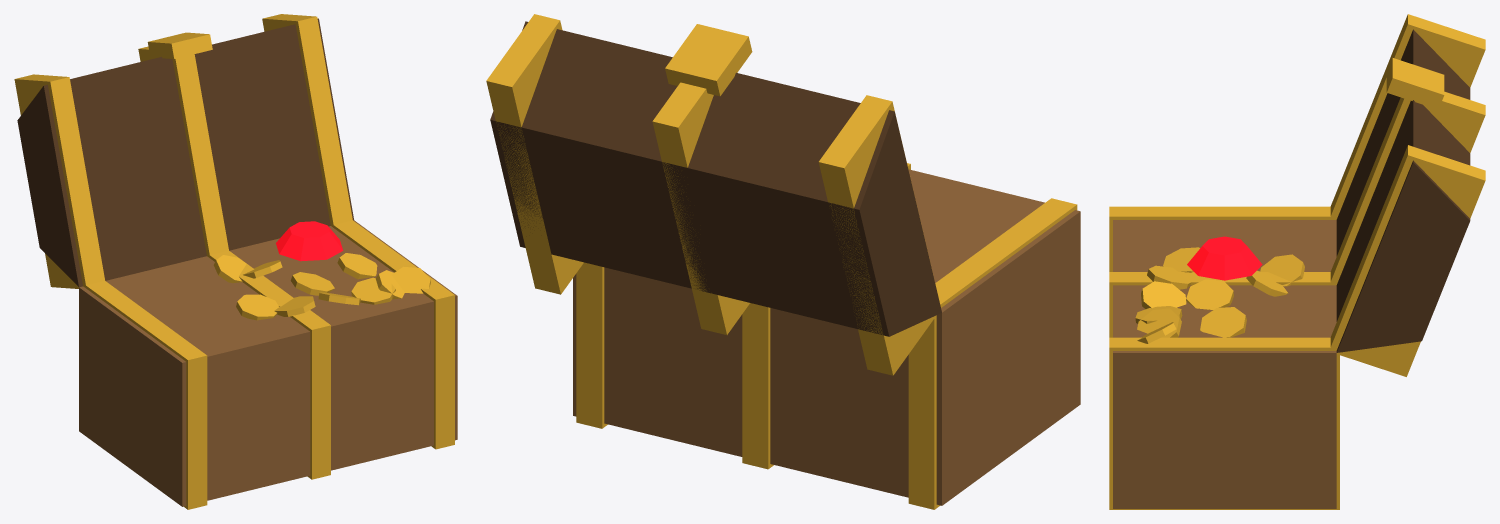
File: chest_open.glb
3 views of the same model, side by side, from view 1: azimuth 30°, elevation 25°; view 2: azimuth 150°, elevation 25°; view 3: azimuth 270°, elevation 25° (orthographic). The views are drawn at different scales.
Parts seen in each view (by area): view 1: wood-col, Lid_wood_dark, gold, Lid_gold, gem_red; view 2: Lid_wood_dark, wood-col, Lid_gold, gold; view 3: wood-col, Lid_wood_dark, Lid_gold, gold, gem_red.
Boxes of the visible parts, x1,y1,x2,y2 form: wood-col: (79, 220, 457, 506); Lid_wood_dark: (17, 18, 353, 287); gold: (82, 220, 454, 509); Lid_gold: (14, 14, 352, 288); gem_red: (276, 221, 343, 261); Lid_wood_dark: (490, 21, 941, 336); wood-col: (573, 169, 1080, 505); Lid_gold: (486, 14, 939, 375); gold: (576, 163, 1077, 509); wood-col: (1113, 220, 1336, 508); Lid_wood_dark: (1336, 29, 1470, 352); Lid_gold: (1329, 14, 1485, 376); gold: (1109, 206, 1339, 509); gem_red: (1187, 236, 1262, 280).
Size of the model in its own units: 1 by 1.19 by 1.09.
